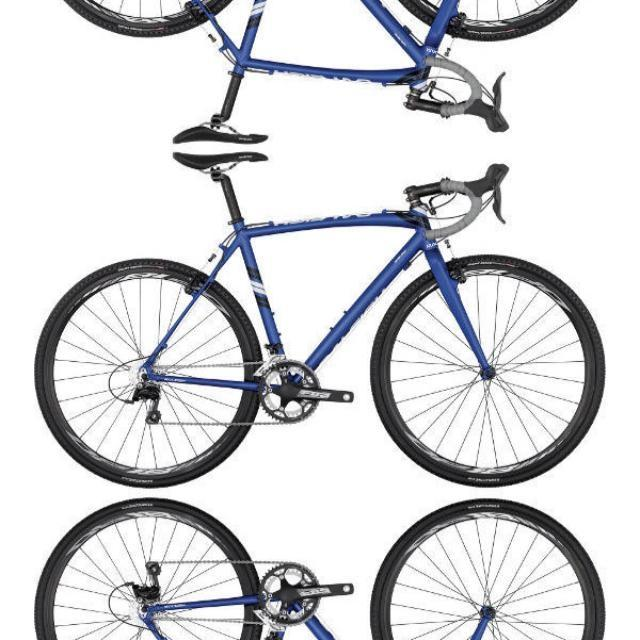obstacle: (28, 148, 620, 490), (28, 0, 620, 146), (28, 495, 620, 640)
